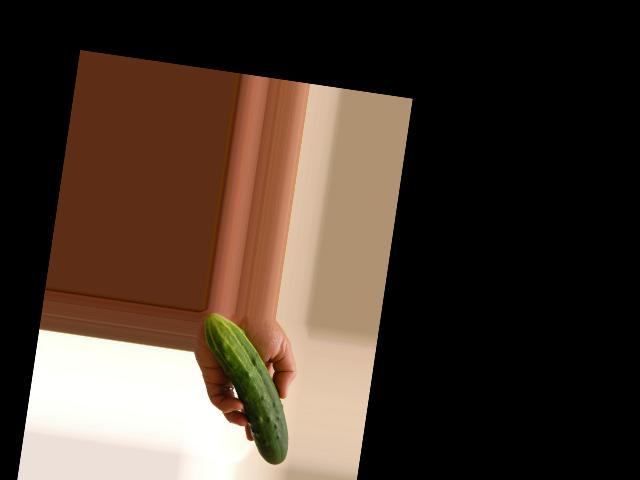cucumber: (185, 312, 304, 466)
